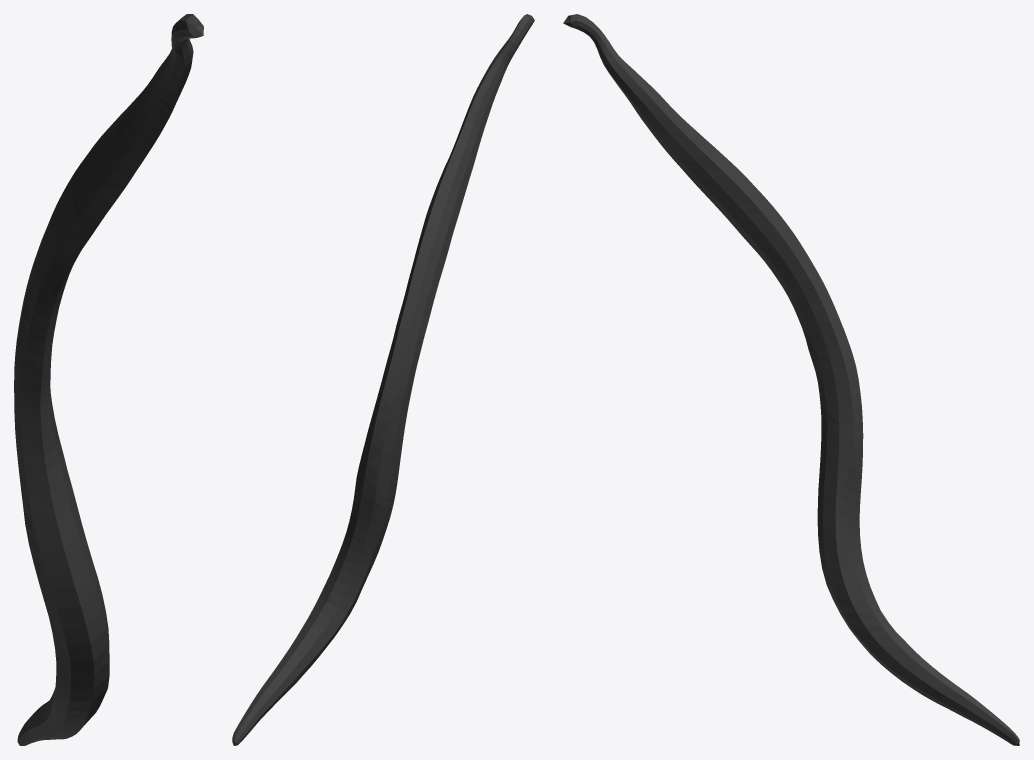
The model's file is Cleidobrachialis.glb.
3 renders of one model, left to right at view 1: azimuth 30°, elevation 25°; view 2: azimuth 150°, elevation 25°; view 3: azimuth 270°, elevation 25°, orthographic. The views are drawn at different scales.
Parts seen in each view (by area): view 1: Cleidobrachialis; view 2: Cleidobrachialis; view 3: Cleidobrachialis.
Boxes of the visible parts, x1=… form: Cleidobrachialis: x1=14, y1=14, x2=203, y2=745; Cleidobrachialis: x1=232, y1=14, x2=534, y2=745; Cleidobrachialis: x1=563, y1=14, x2=1019, y2=745.
Size of the model in its own units: 0.331 by 1.89 by 1.15.
Materials: 1 (1 with a texture image).
